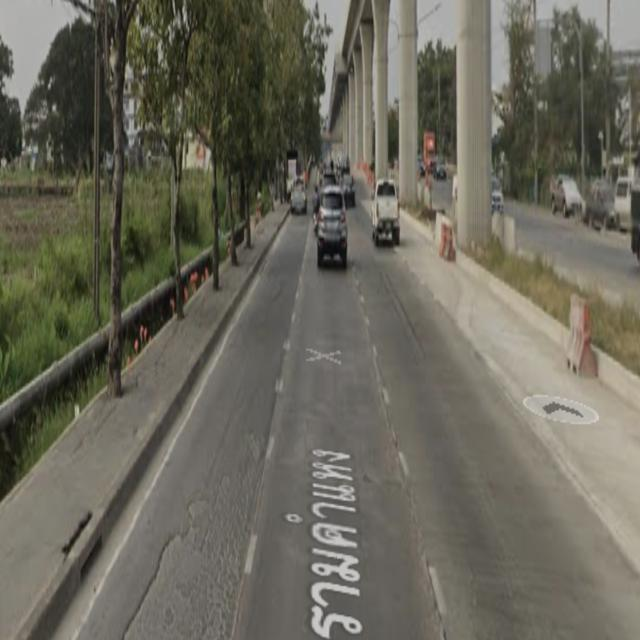fallen_object: (537, 262, 605, 400), (437, 210, 461, 283)
